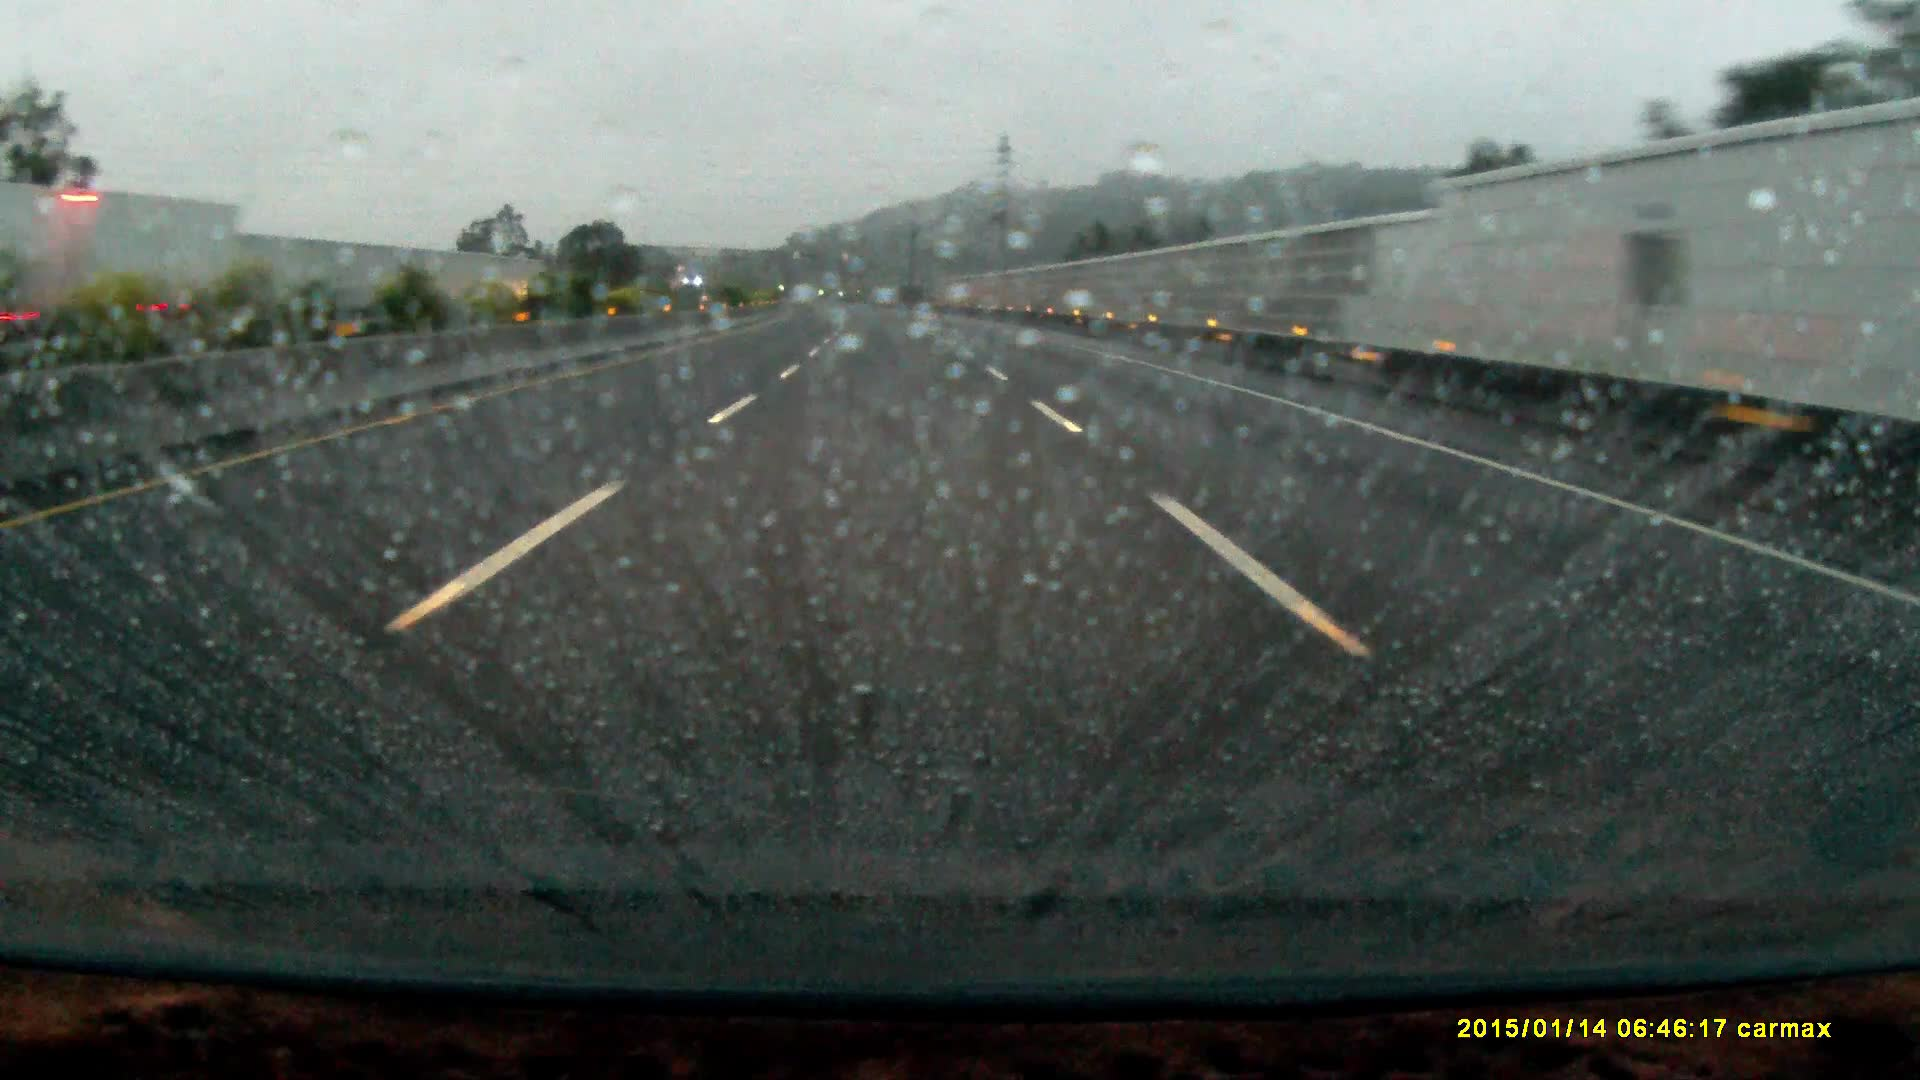vehicle: (1, 190, 268, 348)
